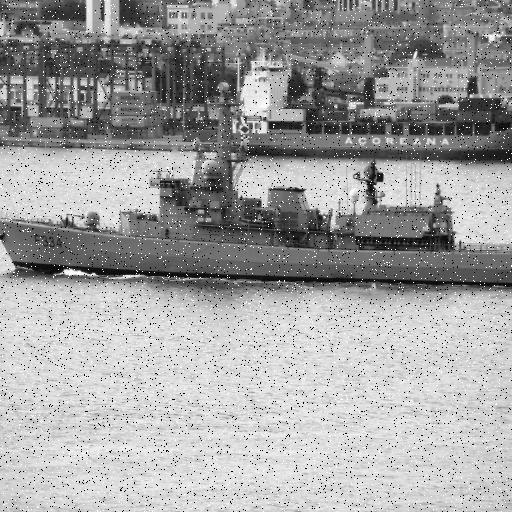Fragata: (1, 72, 512, 293)
